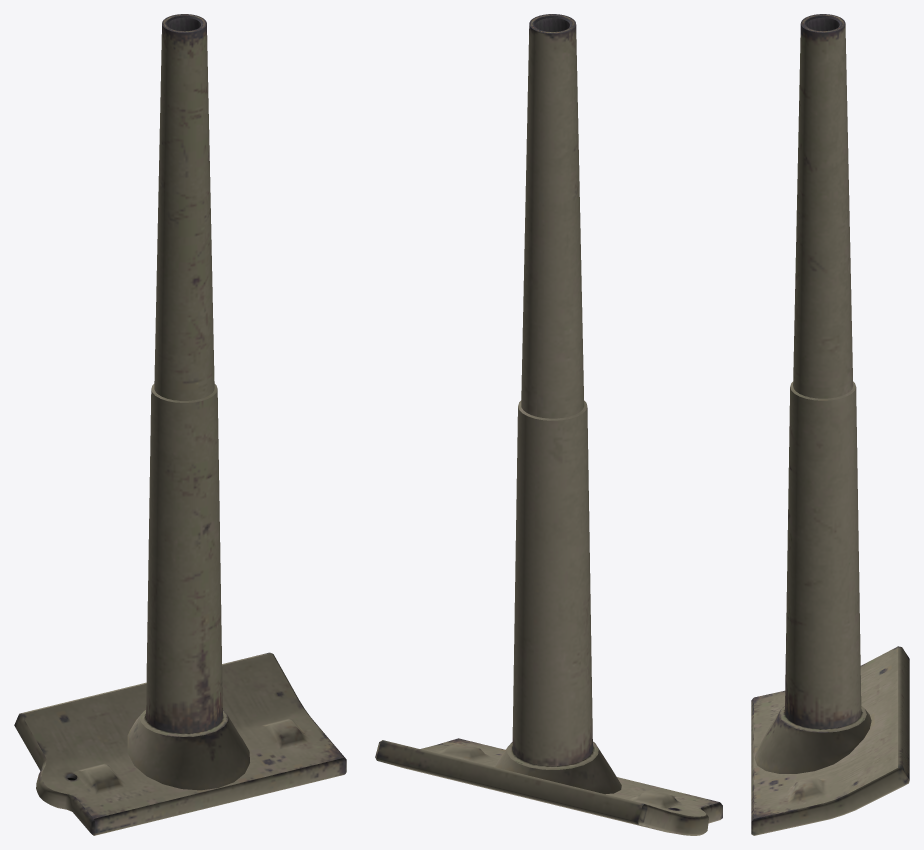
Rendered from Gun_02.glb.
3 renders of one model, left to right at view 1: azimuth 30°, elevation 25°; view 2: azimuth 150°, elevation 25°; view 3: azimuth 270°, elevation 25°, orthographic. The views are drawn at different scales.
Parts seen in each view (by area): view 1: set_0_group_0; view 2: set_0_group_0; view 3: set_0_group_0.
Part boxes in pixels (x1,y1,x2,y2): set_0_group_0: (14, 14, 346, 835); set_0_group_0: (375, 14, 722, 835); set_0_group_0: (751, 14, 909, 835).
Bounding box in the file's own units: 1.32 × 3.51 × 0.6703.
1 material, 1 textured.
